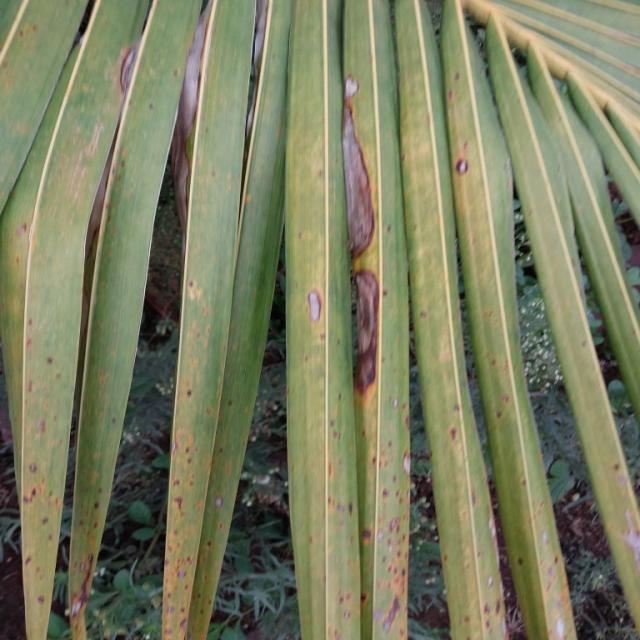gray leaf spot: (136, 8, 432, 444)
